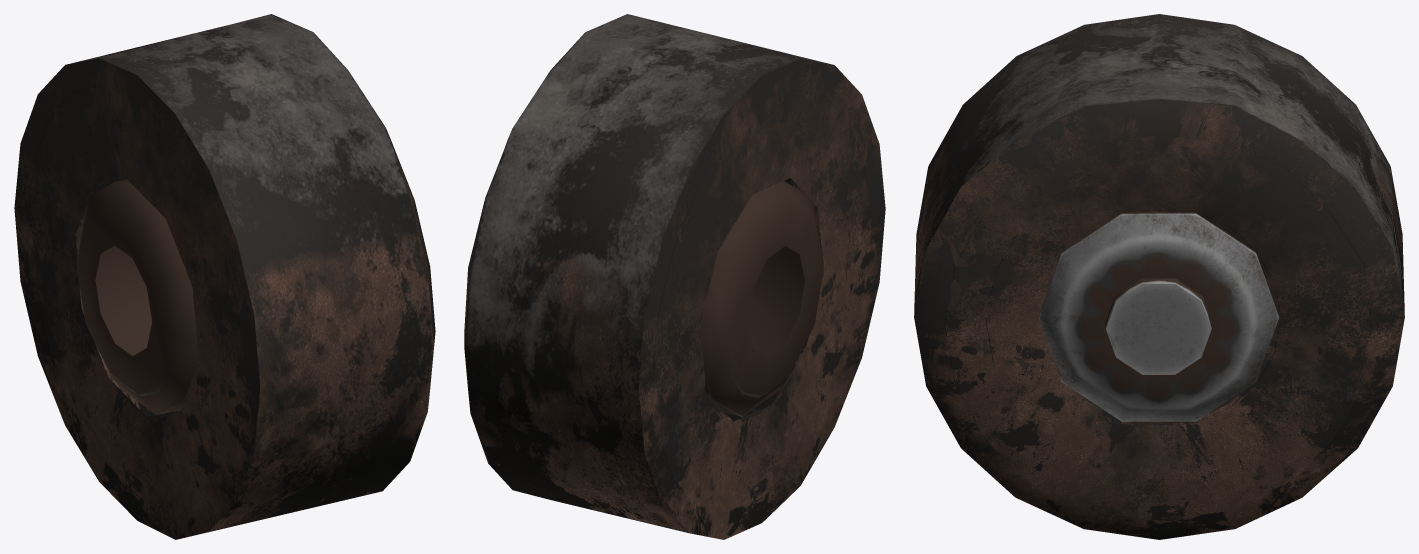
The model's file is Wheel FL bulldozer.fbx.
3 renders of one model, left to right at view 1: azimuth 30°, elevation 25°; view 2: azimuth 150°, elevation 25°; view 3: azimuth 270°, elevation 25°, orthographic.
Visible parts, largest first — view 1: Wheel FL bulldozer; view 2: Wheel FL bulldozer; view 3: Wheel FL bulldozer.
Part boxes in pixels (left/top/right/bottom): Wheel FL bulldozer: left=14, top=14, right=435, bottom=539; Wheel FL bulldozer: left=464, top=14, right=885, bottom=539; Wheel FL bulldozer: left=914, top=14, right=1404, bottom=539.
Bounding box in the file's own units: 0.7926 × 1.58 × 1.59.
